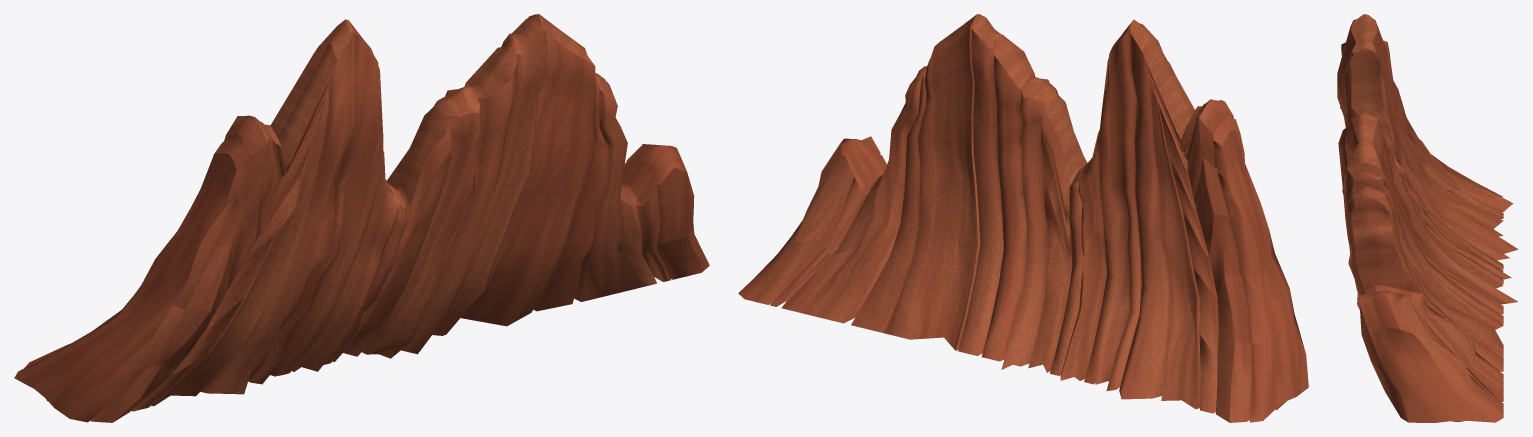
Rendered from Desert_Stonewall_2.fbx.
The picture shows the model from 3 angles, left to right: view 1: azimuth 30°, elevation 25°; view 2: azimuth 150°, elevation 25°; view 3: azimuth 270°, elevation 25°; orthographic projection. The views are drawn at different scales.
Parts seen in each view (by area): view 1: Stone_V2; view 2: Stone_V2; view 3: Stone_V2.
Boxes of the visible parts, bbox=[...] form: Stone_V2: bbox=[14, 14, 709, 422]; Stone_V2: bbox=[738, 14, 1308, 422]; Stone_V2: bbox=[1337, 14, 1518, 422].
Size of the model in its own units: 38.5 by 21.32 by 12.86.
